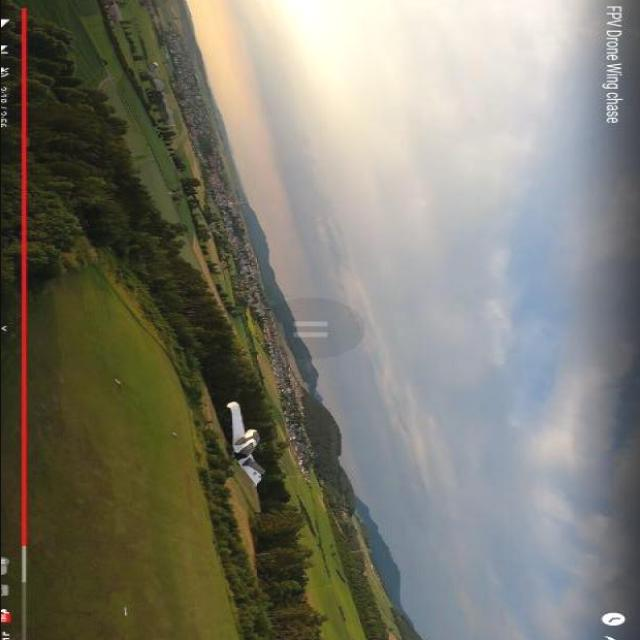plane: (223, 400, 266, 486)
